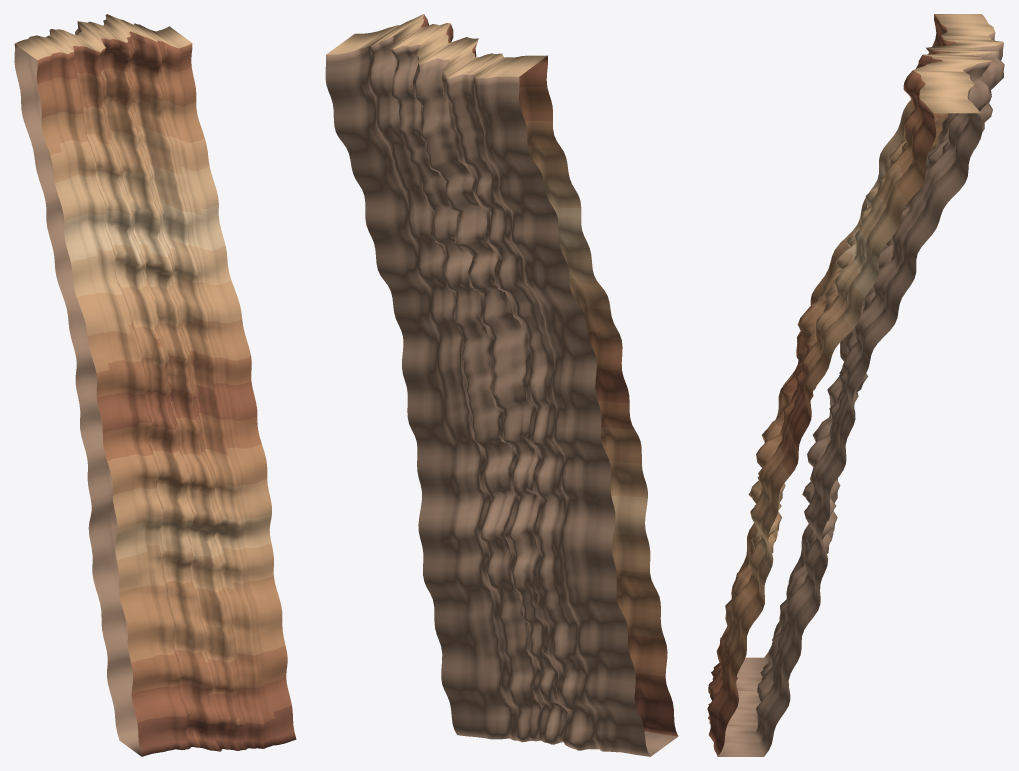
File: SM_CanyonWall_L_Fall_3m.glb
3 views of the same model, side by side, from view 1: azimuth 30°, elevation 25°; view 2: azimuth 150°, elevation 25°; view 3: azimuth 270°, elevation 25° (orthographic). The views are drawn at different scales.
Visible parts, largest first — view 1: SM_CanyonWall_L_Fall_3m; view 2: SM_CanyonWall_L_Fall_3m; view 3: SM_CanyonWall_L_Fall_3m.
Boxes of the visible parts, <box> form: SM_CanyonWall_L_Fall_3m: <box>14,14,296,756</box>; SM_CanyonWall_L_Fall_3m: <box>325,14,678,756</box>; SM_CanyonWall_L_Fall_3m: <box>707,14,1004,756</box>.
Size of the model in its own units: 24 by 95.33 by 38.52.
